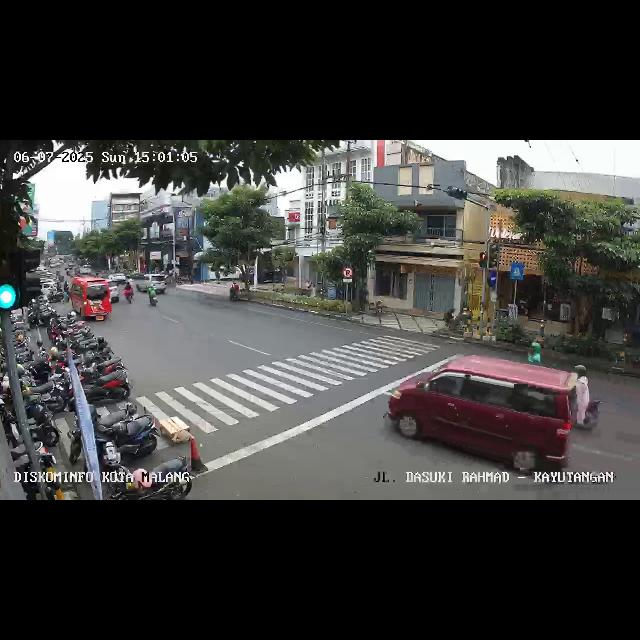car: (384, 362, 576, 478), (70, 277, 112, 323), (134, 274, 168, 298)
motorcycle: (570, 368, 600, 436), (122, 279, 134, 305), (146, 282, 158, 308)
